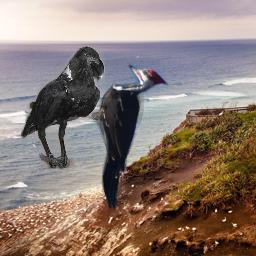Crow: (21, 46, 105, 169)
Woodpecker: (70, 63, 170, 211)
